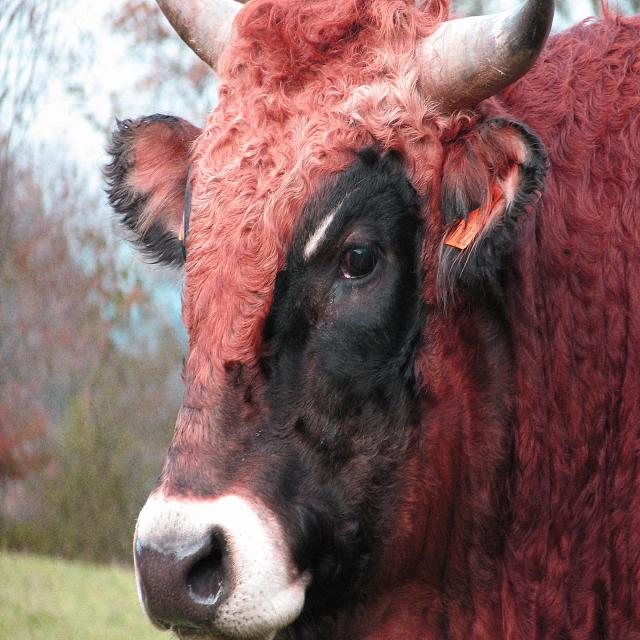cow: (105, 0, 640, 637)
